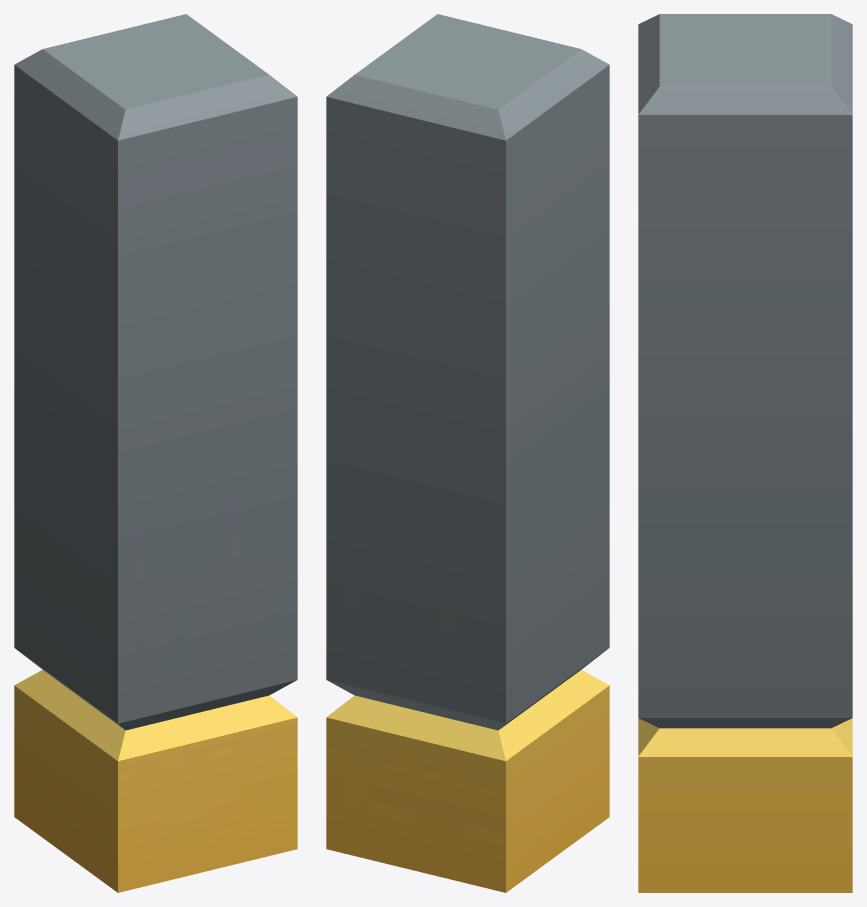
The model's file is pillar-b.glb.
3 renders of one model, left to right at view 1: azimuth 30°, elevation 25°; view 2: azimuth 150°, elevation 25°; view 3: azimuth 270°, elevation 25°, orthographic. The views are drawn at different scales.
Visible parts, largest first — view 1: Pillar_B; view 2: Pillar_B; view 3: Pillar_B.
Boxes of the visible parts, x1=… form: Pillar_B: x1=14, y1=14, x2=297, y2=892; Pillar_B: x1=326, y1=14, x2=609, y2=892; Pillar_B: x1=638, y1=14, x2=852, y2=892.
Bounding box in the file's own units: 1 × 4.1 × 1.
1 material, 1 textured.
